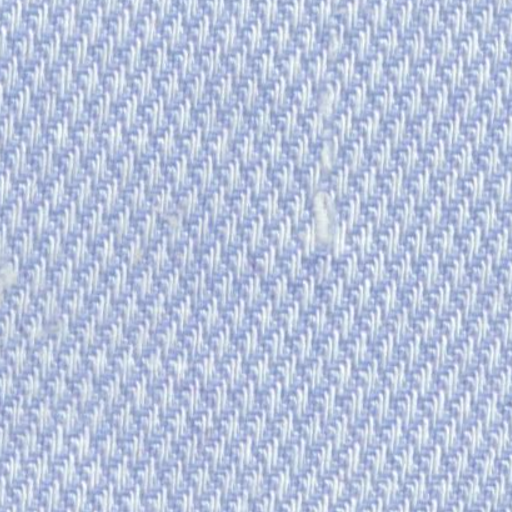DuanSha: (285, 158, 362, 280)
